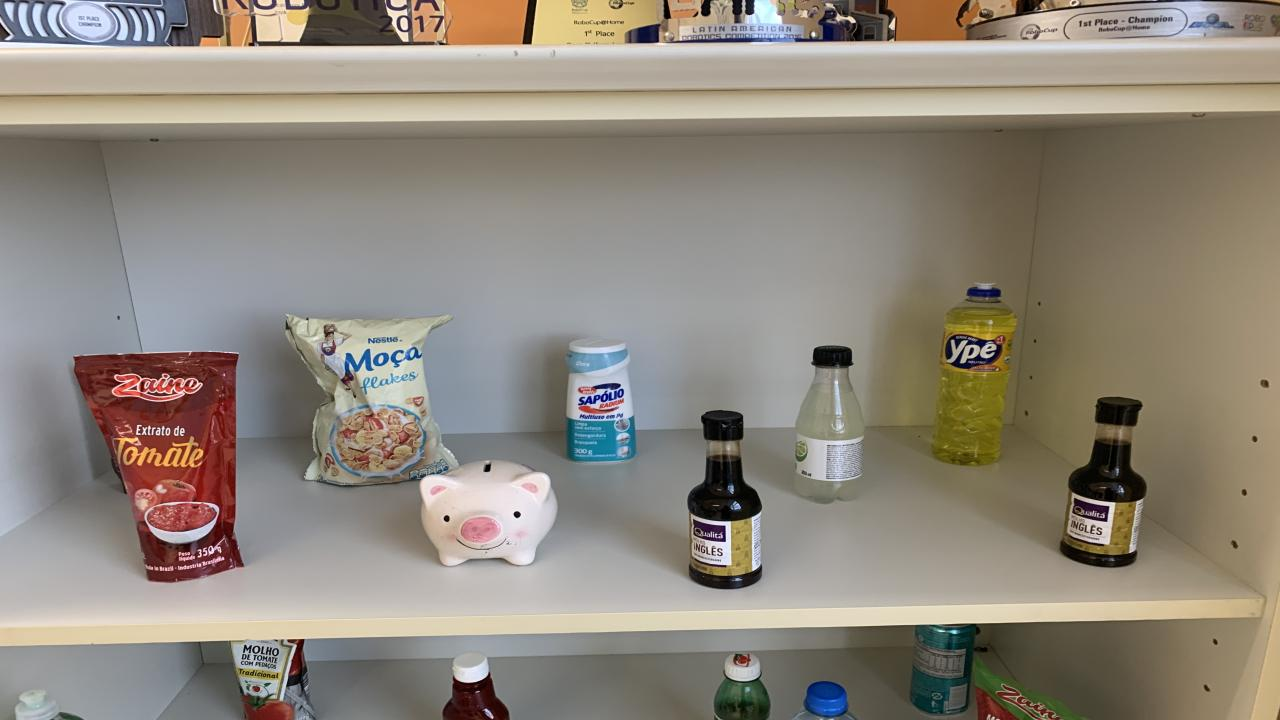Cleaner-Cleanup_Items: (565, 338, 635, 463)
Detergent-Cleanup_Items: (932, 285, 1018, 465), (15, 688, 82, 720)
English_Sauce-Pantry_Items: (1060, 398, 1148, 566), (688, 411, 762, 589)
Flakes-Snacks: (285, 315, 458, 486)
Guarana-Drinks: (715, 652, 770, 720)
Ketchup-Pantry_Items: (442, 652, 510, 720)
Pig_Safe-Miscellaneous: (420, 459, 558, 566)
Soda-Drinks: (795, 347, 865, 504)
Tea-Drinks: (910, 624, 978, 714)
Tomato_Sauce-Pantry_Items: (75, 352, 242, 583), (230, 639, 315, 720), (972, 660, 1082, 720)
Water_Bottle-Drinks: (792, 681, 855, 720)
